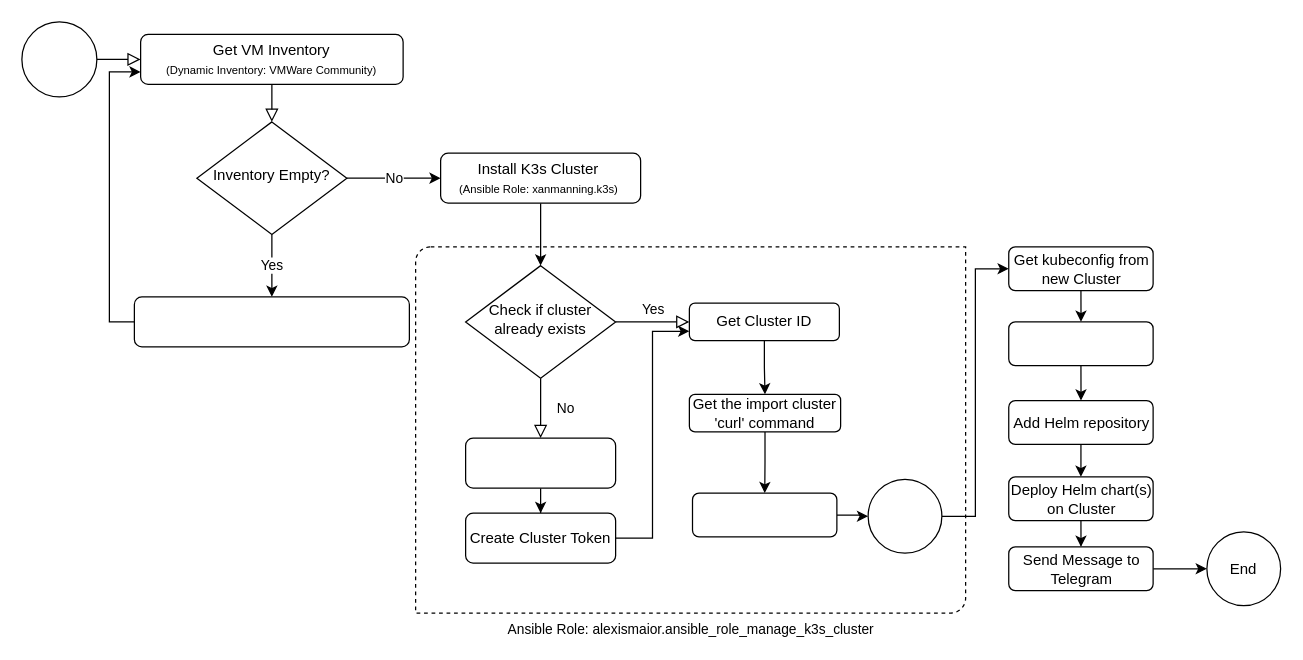
Some shapes in this 1303 by 660 pixel diagram are drawn without their labels. The centre of each missing label's shape, as x and y in pixels:
"Begin" goes at (x=59, y=59).
"Create Cluster" goes at (x=540, y=462).
"Import Cluster into Rancher" goes at (x=764, y=514).
"Provision VM (Ansible Role: jtyr.ansible_vmware_vm_provisioning)" goes at (x=271, y=321).
"Register DNS entry for ingress" goes at (x=1080, y=343).
"Wait for cluster ready" goes at (x=904, y=515).
